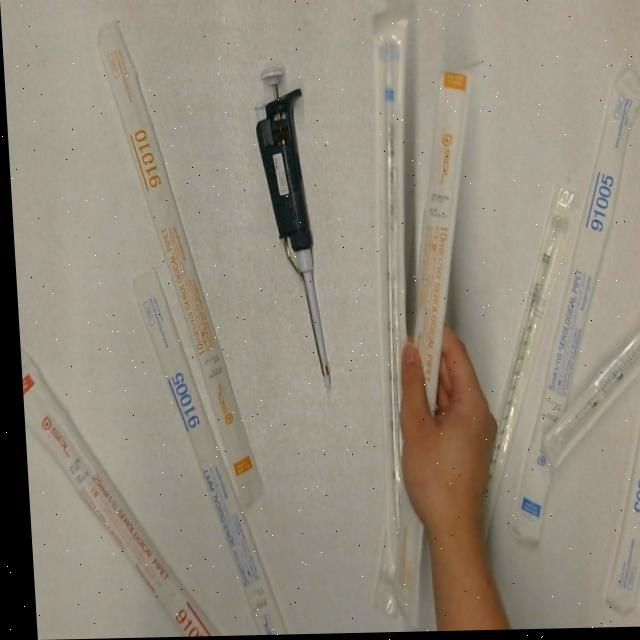Serelogical Pipet 10 mL: (95, 18, 267, 513), (360, 56, 507, 628)
Serelogical Pipet 2 mL: (450, 179, 596, 557)
Serelogical Pipet 25 mL: (17, 341, 214, 640)
Serelogical Pipet 5 mL: (482, 68, 640, 550), (123, 262, 280, 638), (357, 8, 437, 541), (528, 309, 640, 474), (583, 350, 640, 618)
Single Channel Pipettor: (238, 54, 343, 398)
